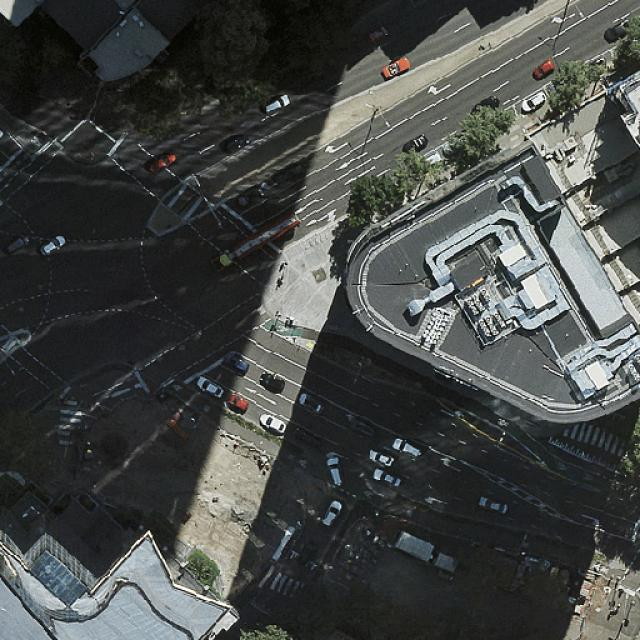Bike-Symbols: (276, 324, 296, 336), (30, 136, 43, 148), (581, 472, 595, 483), (496, 418, 511, 427), (556, 461, 568, 472), (296, 458, 309, 468), (363, 490, 374, 500), (172, 384, 184, 393), (404, 508, 414, 518)
